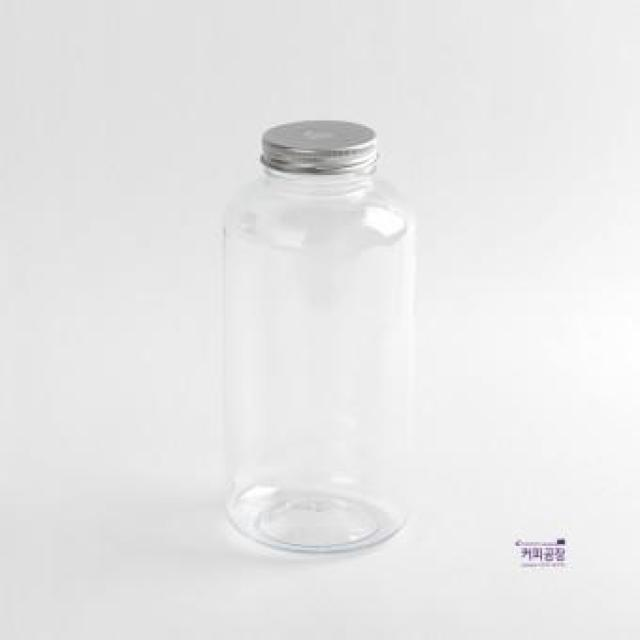bottle: (222, 121, 418, 557)
